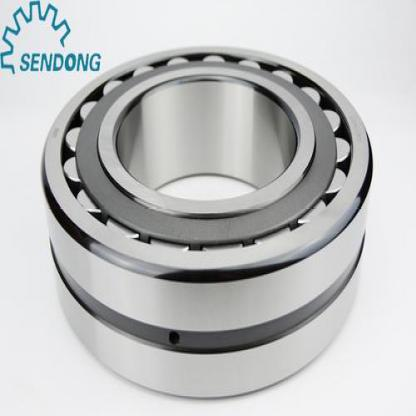FOD: (34, 42, 380, 404)
